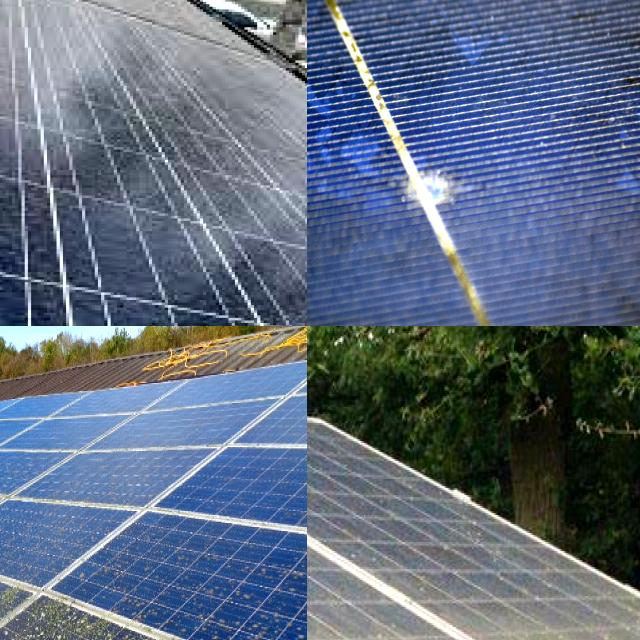dust: (0, 82, 136, 263), (338, 502, 516, 616), (177, 103, 307, 250), (209, 525, 307, 640), (0, 0, 113, 73), (0, 484, 100, 566), (307, 479, 366, 596), (0, 556, 41, 640), (307, 420, 351, 497), (307, 534, 344, 624), (2, 0, 101, 27), (456, 626, 640, 640)
shadow: (381, 146, 500, 262)
